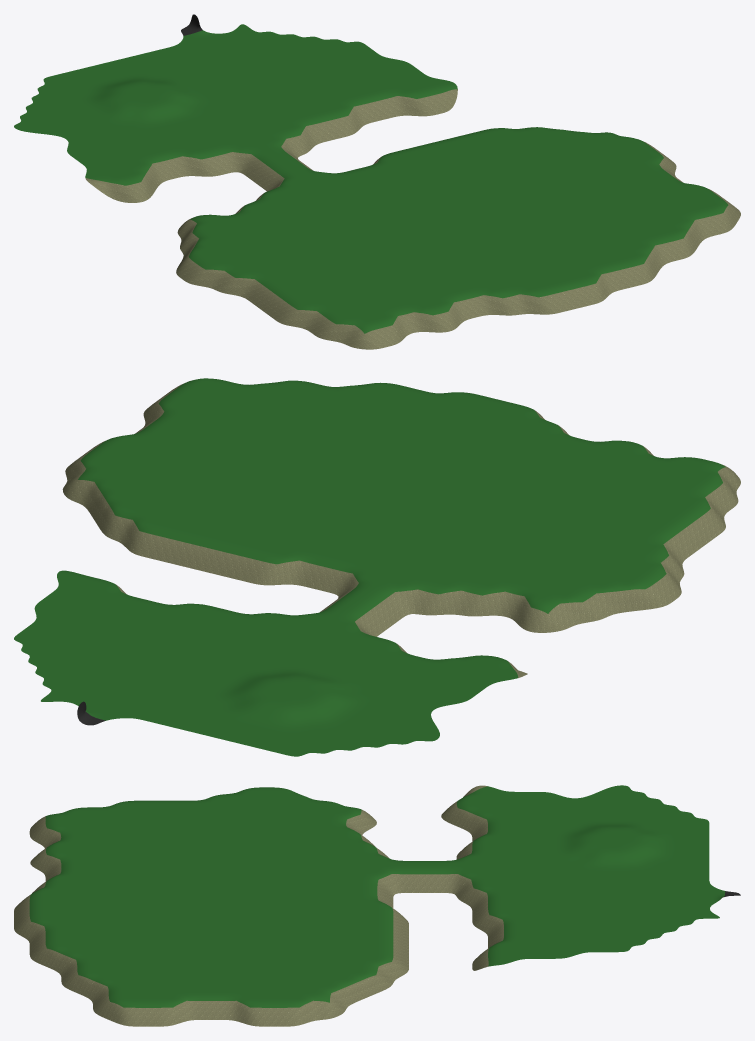
The model's file is overworld_terrain.fbx.
3 views of the same model, one above another, from view 1: azimuth 30°, elevation 25°; view 2: azimuth 150°, elevation 25°; view 3: azimuth 270°, elevation 25° (orthographic). The views are drawn at different scales.
Parts seen in each view (by area): view 1: Overworld_terrain; view 2: Overworld_terrain; view 3: Overworld_terrain.
Part boxes in pixels (box(x1,y1,x2,y2)): Overworld_terrain: box(14, 14, 740, 349); Overworld_terrain: box(14, 378, 740, 756); Overworld_terrain: box(14, 785, 740, 1026).
Bounding box in the file's own units: 7000 × 394 × 9200.
